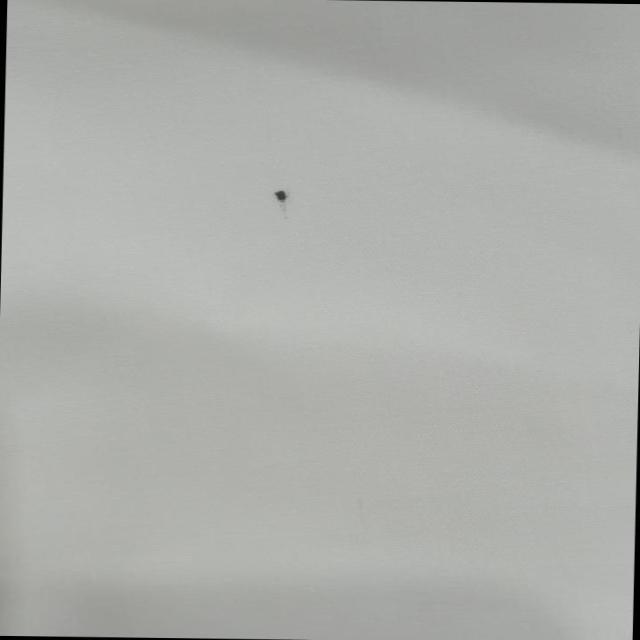stain: (253, 174, 310, 218)
